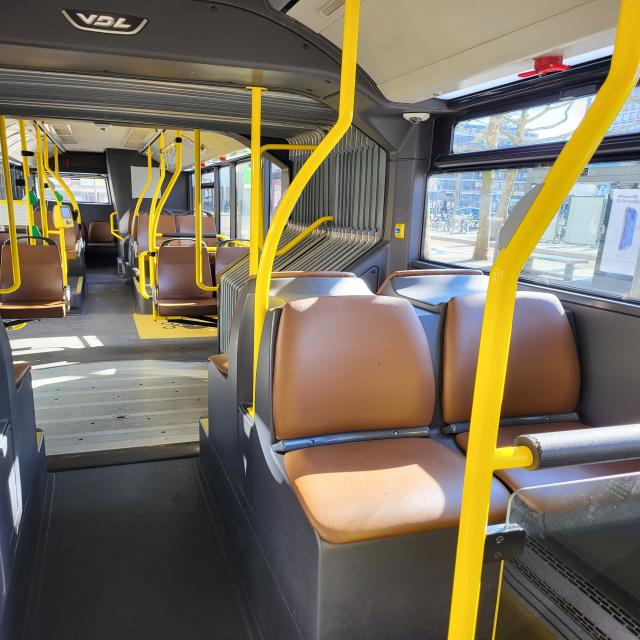empty-seat-frontal: (268, 288, 513, 530), (445, 288, 640, 516), (0, 237, 71, 320), (151, 236, 220, 318), (89, 217, 116, 250)
